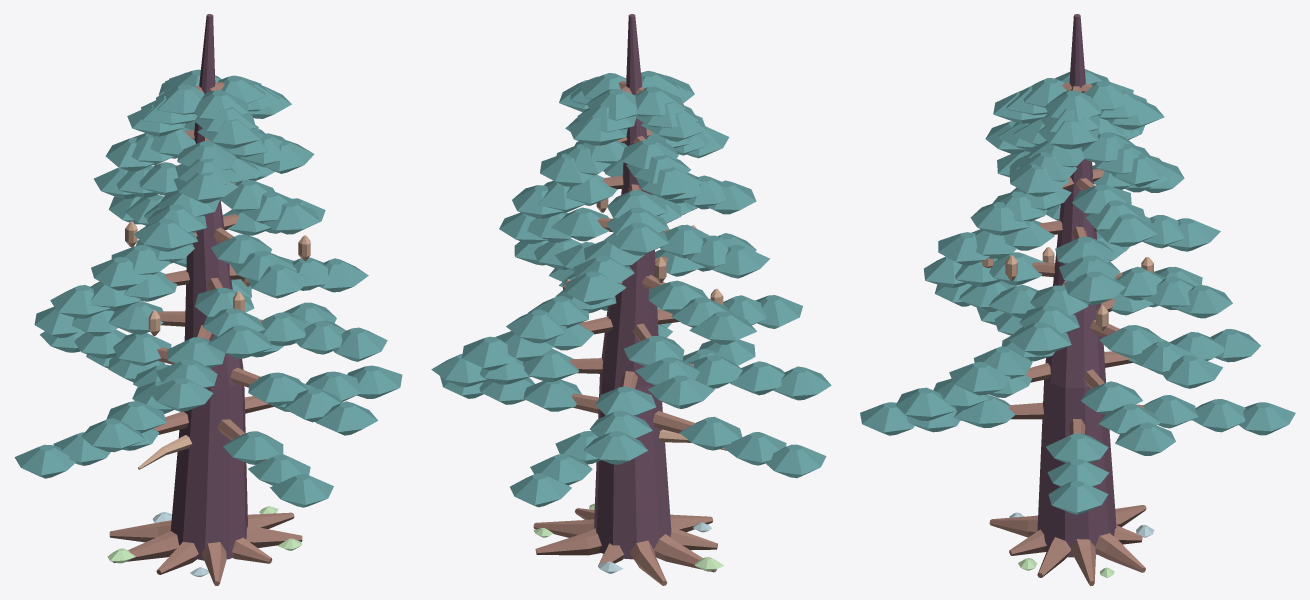
Rendered from lagoon_tree_douglas_fir.glb.
The picture shows the model from 3 angles, left to right: view 1: azimuth 30°, elevation 25°; view 2: azimuth 150°, elevation 25°; view 3: azimuth 270°, elevation 25°; orthographic projection.
Parts seen in each view (by area): view 1: lagoon_tree_douglas_fir.001; view 2: lagoon_tree_douglas_fir.001; view 3: lagoon_tree_douglas_fir.001.
Part boxes in pixels (x1,y1,x2,y2): lagoon_tree_douglas_fir.001: (14,14,402,585); lagoon_tree_douglas_fir.001: (431,14,831,585); lagoon_tree_douglas_fir.001: (860,14,1295,585).
Size of the model in its own units: 7.84 by 10.46 by 7.81.
